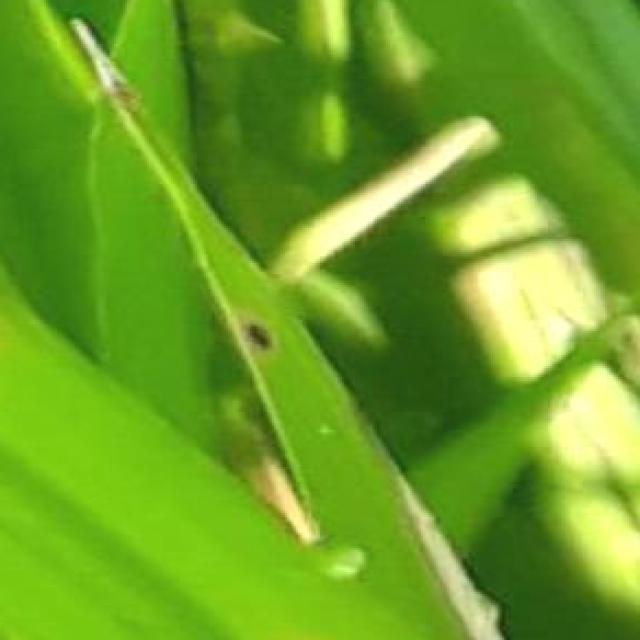Brown_Spot: (230, 307, 287, 359)
